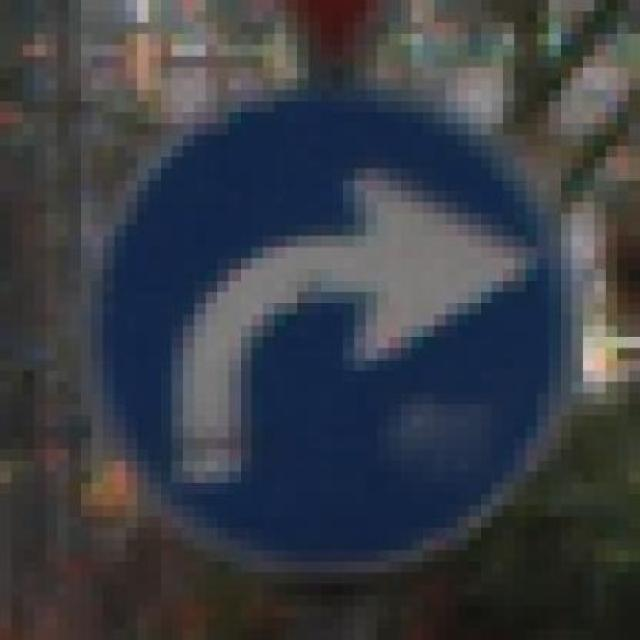Turn right ahead: (91, 79, 594, 606)
